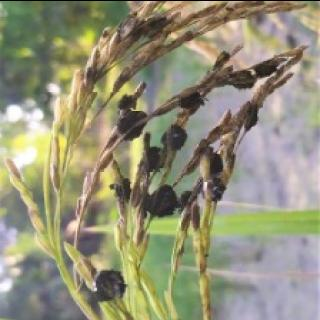Gosong-Palsu: (216, 57, 286, 87), (144, 184, 179, 214), (96, 270, 124, 297), (117, 109, 146, 131), (161, 124, 186, 149), (179, 91, 203, 107), (126, 130, 140, 139)
